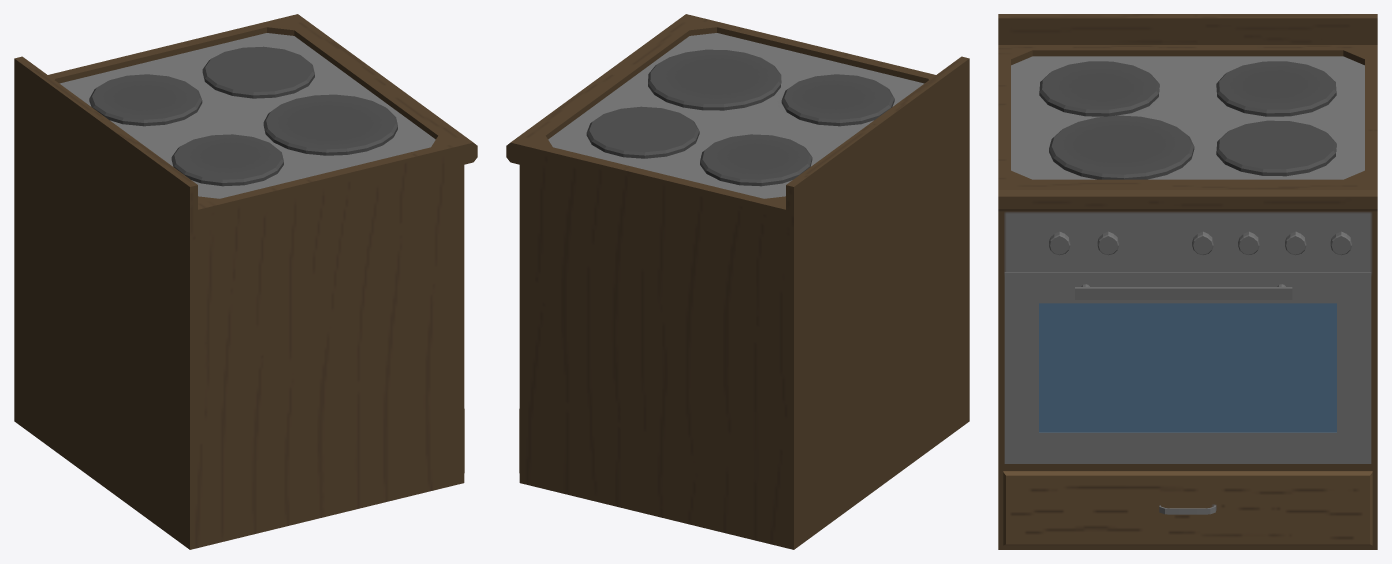
Rendered from KitchenStoveWithOven.fbx.
3 renders of one model, left to right at view 1: azimuth 30°, elevation 25°; view 2: azimuth 150°, elevation 25°; view 3: azimuth 270°, elevation 25°, orthographic. The views are drawn at different scales.
Visible parts, largest first — view 1: kitchen stove with oven.001; view 2: kitchen stove with oven.001; view 3: kitchen stove with oven.001.
Part boxes in pixels (x1,y1,x2,y2): kitchen stove with oven.001: (14,14,477,549); kitchen stove with oven.001: (506,14,969,549); kitchen stove with oven.001: (998,14,1377,549).
Size of the model in its own units: 91.42 by 110 by 96.71.
1 material, 1 textured.
